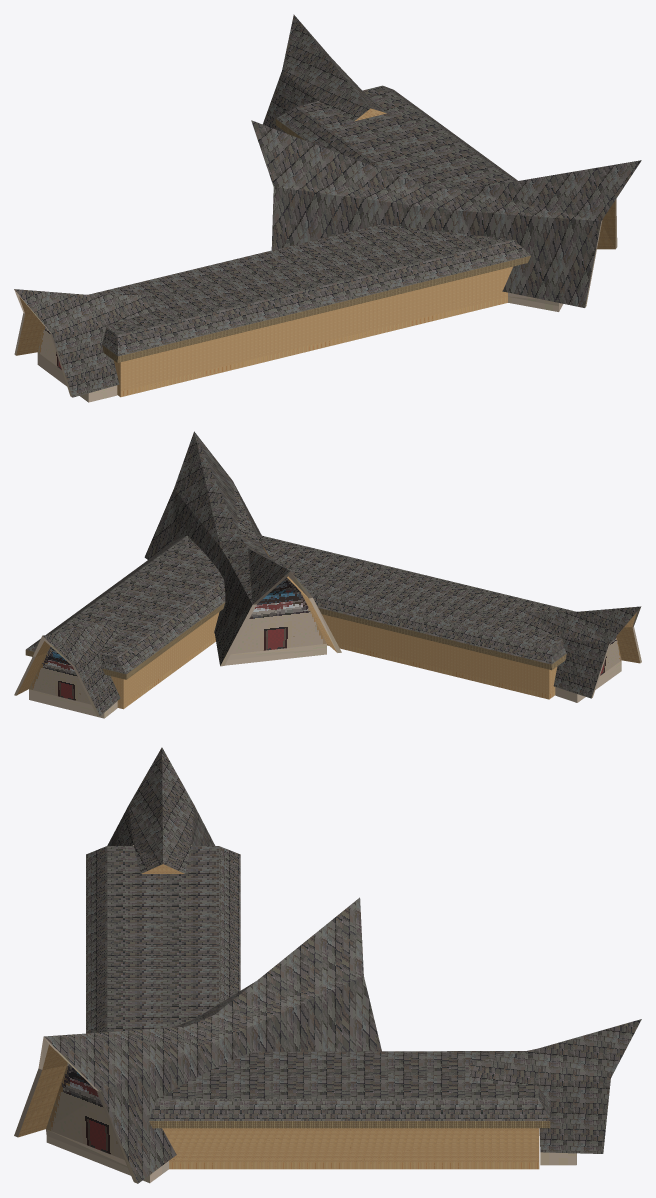
The model's file is lodimotel01_lvs.obj.
3 views of the same model, one above another, from view 1: azimuth 30°, elevation 25°; view 2: azimuth 150°, elevation 25°; view 3: azimuth 270°, elevation 25° (orthographic). The views are drawn at different scales.
Visible parts, largest first — view 1: lodimotel01_lvs; view 2: lodimotel01_lvs; view 3: lodimotel01_lvs.
Part boxes in pixels (x1=…): lodimotel01_lvs: x1=14, y1=14, x2=641, y2=402; lodimotel01_lvs: x1=14, y1=431, x2=641, y2=718; lodimotel01_lvs: x1=14, y1=747, x2=641, y2=1183.
Bounding box in the file's own units: 95.15 × 20.42 × 76.78.
4 materials, 4 textured.
